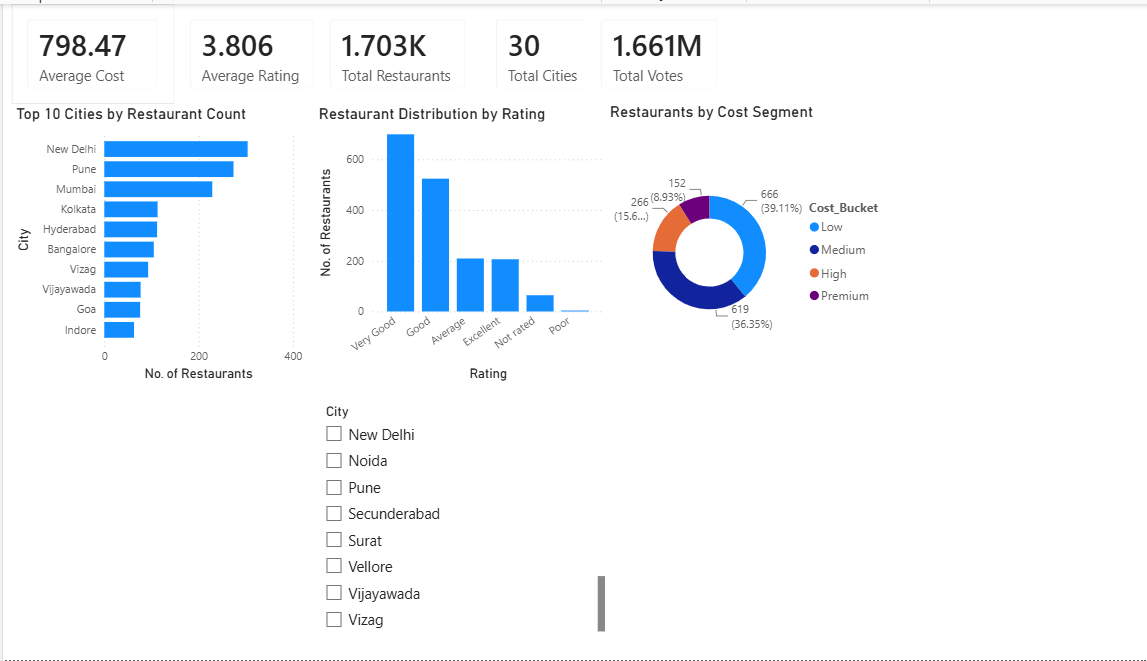

The dashboard page shown, as its layout file describes it:
{"tool":"powerbi","page":{"name":"Executive Overview","canvas":[1280,720],"ordinal":0},"visuals":[{"type":"cardVisual","fields":{"Data":["zomato_cleaned_final.Average Cost"]},"box":[10,0,177.8,110],"z":0},{"type":"cardVisual","fields":{"Data":["zomato_cleaned_final.Average Rating"]},"box":[187.8,0,170,110],"z":1000},{"type":"cardVisual","fields":{"Data":["zomato_cleaned_final.Total Restaurants"]},"box":[341.1,0,183.3,110],"z":2000},{"type":"cardVisual","fields":{"Data":["zomato_cleaned_final.Total Cities"]},"box":[524.4,0,136.7,110],"z":3000},{"type":"cardVisual","fields":{"Data":["zomato_cleaned_final.Total Votes"]},"box":[640,0,162.2,110],"z":4000},{"type":"clusteredBarChart","title":"Top 10 Cities by Restaurant Count","fields":{"Category":["zomato_cleaned_final.City"],"Y":["Count(zomato_cleaned_final.Restaurant_ID)"]},"box":[9.6,109.8,323.8,308.7],"z":5000},{"type":"clusteredColumnChart","title":"Restaurant Distribution by Rating","fields":{"Category":["zomato_cleaned_final.Rating_Text"],"Y":["CountNonNull(zomato_cleaned_final.Restaurant_ID)"]},"box":[341.7,109.8,322.5,308.7],"z":6000},{"type":"donutChart","title":"Restaurants by Cost Segment","fields":{"Category":["zomato_cleaned_final.Cost_Bucket"],"Y":["CountNonNull(zomato_cleaned_final.Restaurant_ID)"]},"box":[661.4,108.4,322.5,310.1],"z":7000},{"type":"slicer","fields":{"Values":["zomato_cleaned_final.City"]},"box":[341.7,433.6,323.8,260.7],"z":8000}]}

Visuals, with their boxes in screenshot pixels (x1, y1, x2, y2), scaled from the page's 1280x720 canvas onto the 1147x661 screenshot:
cardVisual - zomato_cleaned_final.Average Cost: [left=9, top=0, right=168, bottom=101]
cardVisual - zomato_cleaned_final.Average Rating: [left=168, top=0, right=321, bottom=101]
cardVisual - zomato_cleaned_final.Total Restaurants: [left=306, top=0, right=470, bottom=101]
cardVisual - zomato_cleaned_final.Total Cities: [left=470, top=0, right=592, bottom=101]
cardVisual - zomato_cleaned_final.Total Votes: [left=574, top=0, right=719, bottom=101]
"Top 10 Cities by Restaurant Count" clusteredBarChart: [left=9, top=101, right=299, bottom=384]
"Restaurant Distribution by Rating" clusteredColumnChart: [left=306, top=101, right=595, bottom=384]
"Restaurants by Cost Segment" donutChart: [left=593, top=100, right=882, bottom=384]
slicer - zomato_cleaned_final.City: [left=306, top=398, right=596, bottom=637]
